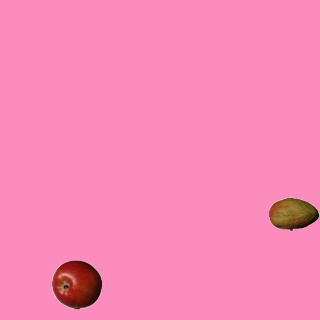Apple Braeburn: (51, 259, 101, 309)
Papaya: (268, 189, 318, 239)
